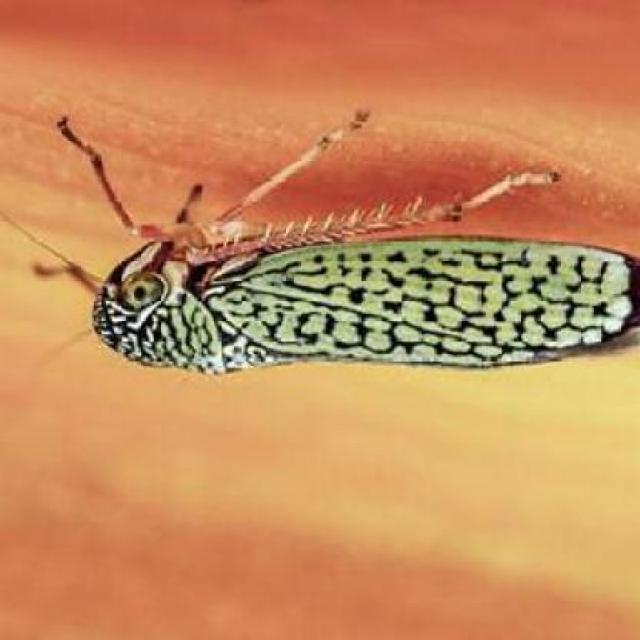green-leafhopper: (80, 214, 625, 374)
